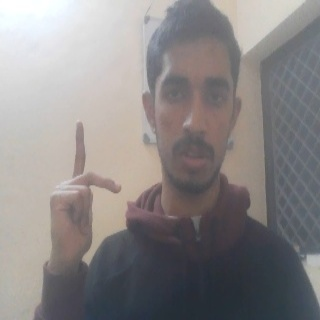Face: (141, 4, 243, 194)
Okay: (47, 118, 124, 263)
